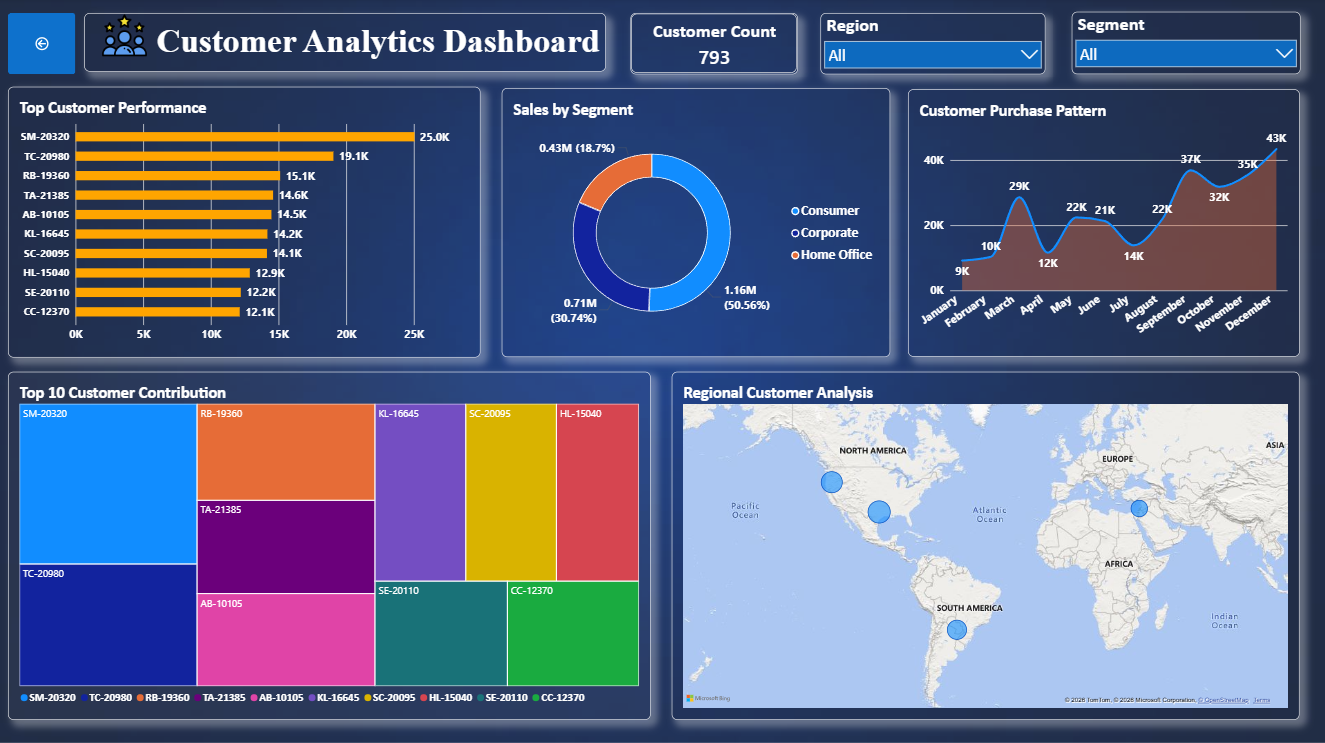

The page's visual inventory and layout, read from the dashboard file:
{"tool":"powerbi","page":{"name":"Customer","canvas":[1920,1080],"ordinal":3},"visuals":[{"type":"textbox","box":[125.5,21.6,755.3,84.4],"z":0},{"type":"barChart","title":"Top Customer Performance","fields":{"Category":["Data.Customer ID"],"Y":["Sum(Data.Sales)"]},"box":[15.1,127.7,683.9,391.7],"z":1000},{"type":"donutChart","title":"Sales by Segment","fields":{"Category":["Data.Segment"],"Y":["Sum(Data.Sales)"]},"box":[729.3,129.8,562.7,389.5],"z":2000},{"type":"lineChart","title":"Customer Purchase Pattern","fields":{"Category":["Data.Order Date.Variation.Date Hierarchy.Year","Data.Order Date.Variation.Date Hierarchy.Quarter","Data.Order Date.Variation.Date Hierarchy.Month","Data.Order Date.Variation.Date Hierarchy.Day"],"Y":["Sum(Data.Profit)"]},"box":[1318,132,567,387.4],"z":3000},{"type":"slicer","fields":{"Values":["Data.Segment"]},"box":[1554.5,19.9,331.2,90.5],"z":4000},{"type":"treemap","title":"Top 10 Customer Contribution","fields":{"Group":["Data.Customer ID"],"Values":["Sum(Data.Sales)"]},"box":[15.1,541,930.6,504.2],"z":5000},{"type":"map","title":"Regional Customer Analysis","fields":{"Category":["Data.Region Hierarchy.Region","Data.Region Hierarchy.State","Data.Region Hierarchy.City"],"Size":["CountNonNull(Data.Customer ID)"]},"box":[976,541,908.9,504.2],"z":6000},{"type":"cardVisual","fields":{"Data":["Data.Customer Count"]},"box":[915.7,21.7,242.5,88.7],"z":7000},{"type":"image","box":[99.6,21.6,166.6,64.9],"z":8000},{"type":"slicer","fields":{"Values":["Data.Region"]},"box":[1190.8,21.7,325.7,88.7],"z":10000},{"type":"actionButton","box":[14.5,21.7,97.7,88.7],"z":10001}]}

Visuals, with their boxes in screenshot pixels (x1, y1, x2, y2), scaled from the page's 1920x1080 canvas onto the 1325x743 screenshot:
textbox: detection(87, 15, 608, 73)
"Top Customer Performance" barChart: detection(10, 88, 482, 357)
"Sales by Segment" donutChart: detection(503, 89, 892, 357)
"Customer Purchase Pattern" lineChart: detection(910, 91, 1301, 357)
slicer - Data.Segment: detection(1073, 14, 1301, 76)
"Top 10 Customer Contribution" treemap: detection(10, 372, 653, 719)
"Regional Customer Analysis" map: detection(674, 372, 1301, 719)
cardVisual - Data.Customer Count: detection(632, 15, 799, 76)
image: detection(69, 15, 184, 60)
slicer - Data.Region: detection(822, 15, 1047, 76)
actionButton: detection(10, 15, 77, 76)
